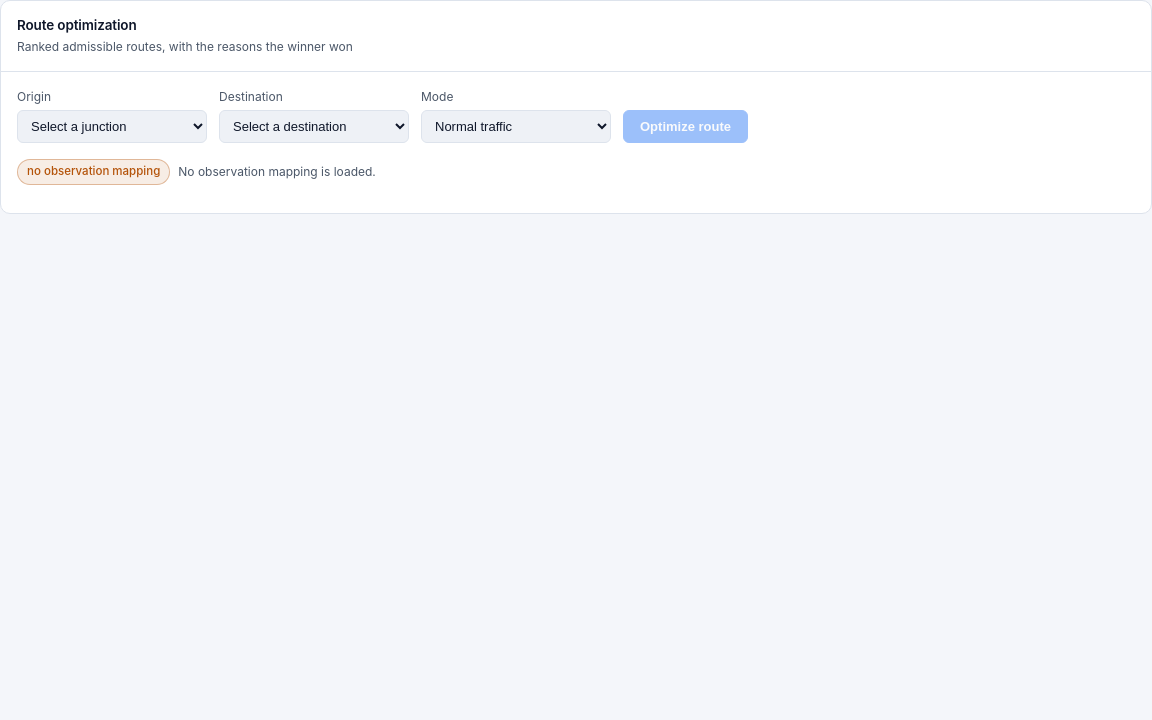
Scenario: RouteOptimizationPanel › names the segments hard constraints removed before search
Select "J1" in the dropdown labelled "Origin" at [112, 127], box [17, 110, 207, 143]
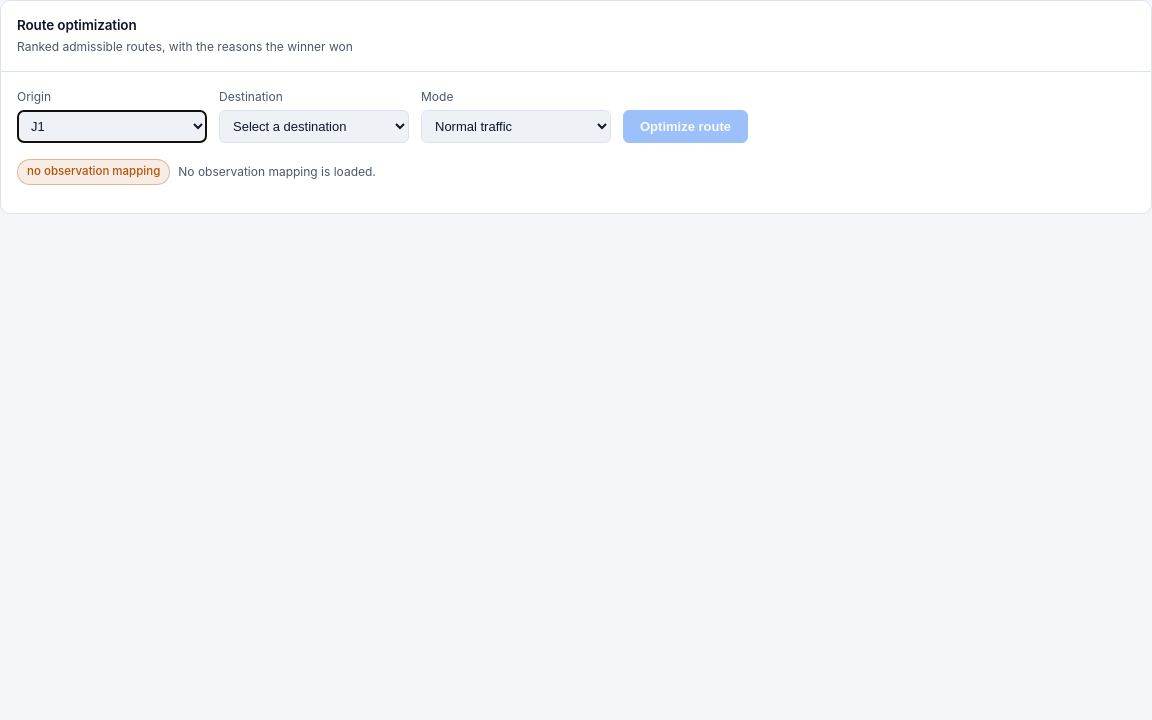
Select "J3" in the dropdown labelled "Destination" at [314, 127], box [219, 110, 409, 143]
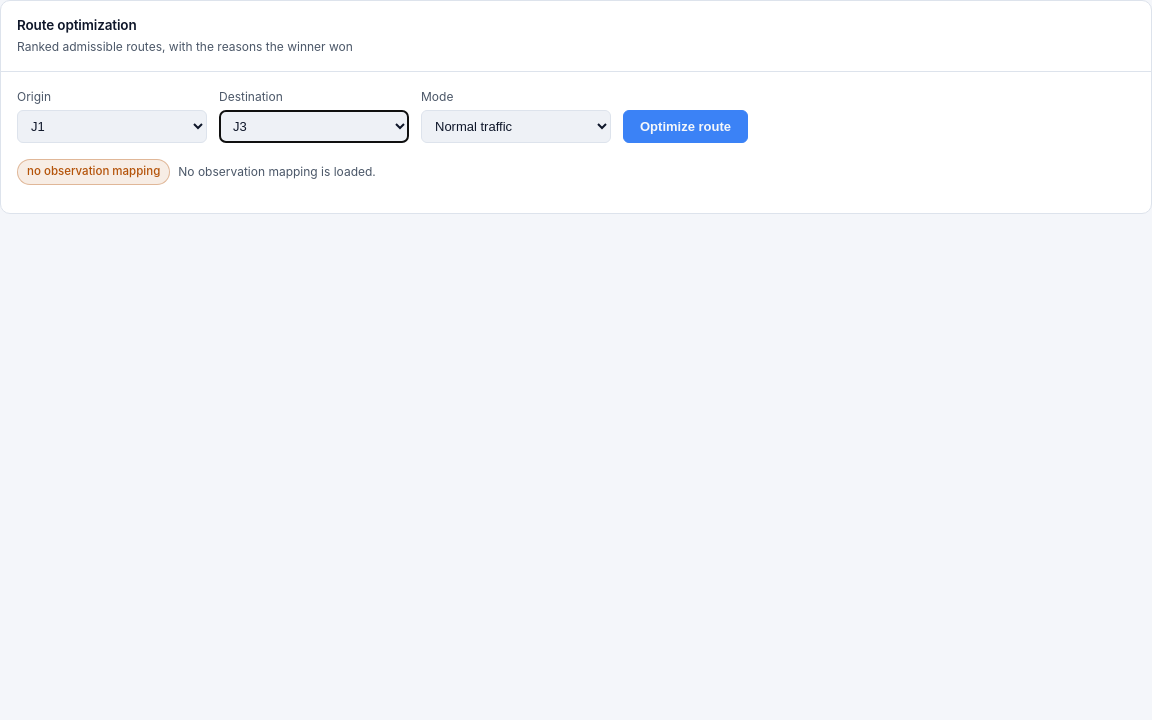
Click the button "Optimize route" at [686, 127], box [623, 110, 748, 143]
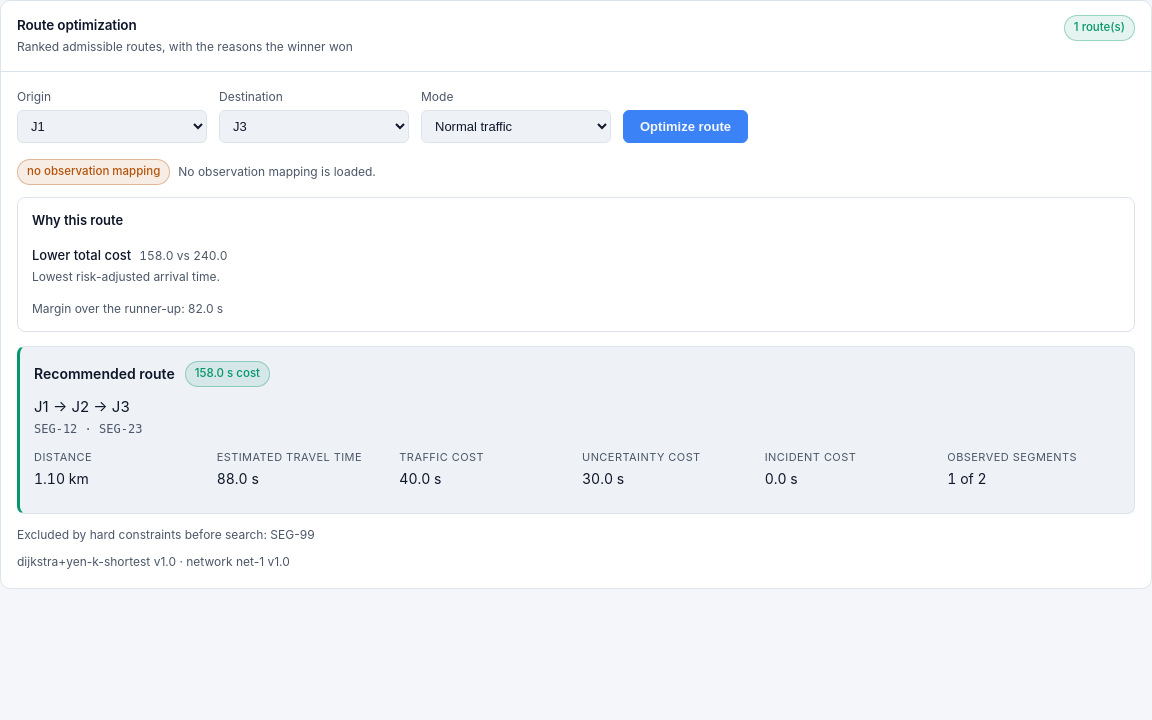
Expected: the text "Excluded by hard constraints before search: SEG-99" is shown, [17, 527, 315, 542]
